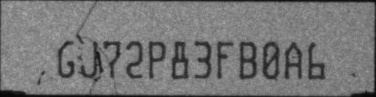0: (262, 41, 281, 79)
2: (126, 40, 144, 79)
3: (194, 40, 212, 80)
6: (307, 41, 326, 80)
7: (104, 40, 122, 78)
8: (170, 40, 191, 79)
A: (284, 41, 303, 80)
B: (239, 40, 259, 79)
F: (216, 41, 235, 79)
G: (57, 40, 77, 78)
J: (80, 39, 99, 78)
P: (147, 40, 167, 79)
